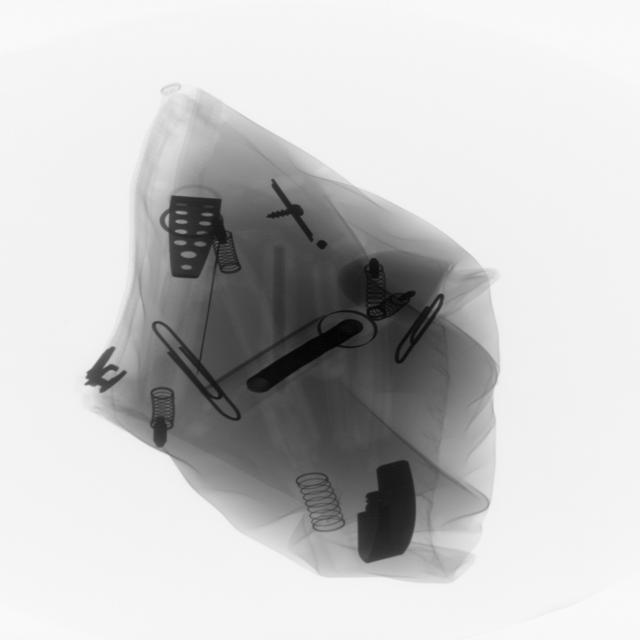knife: (169, 190, 220, 288)
pin: (145, 315, 256, 433)
